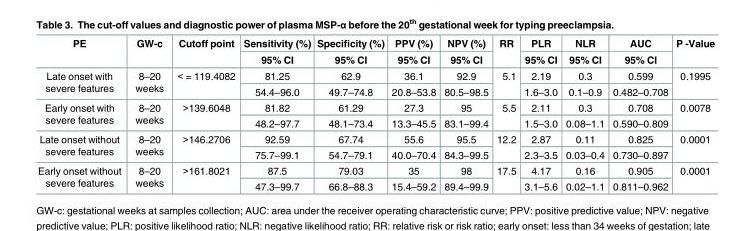table: (36, 36, 714, 191)
table column: (36, 36, 127, 191), (238, 36, 313, 191), (313, 36, 387, 191), (169, 36, 238, 191), (607, 36, 671, 191), (387, 36, 439, 191), (439, 36, 491, 191), (560, 36, 607, 191), (671, 36, 714, 191), (127, 36, 169, 191), (519, 36, 560, 191), (491, 36, 519, 191)
table column header: (36, 36, 714, 67)
table row: (36, 50, 714, 67), (36, 67, 714, 83), (36, 83, 714, 99), (36, 114, 714, 130), (36, 130, 714, 146), (36, 146, 714, 162), (36, 162, 714, 178), (36, 99, 714, 114), (36, 36, 714, 50), (36, 178, 714, 191)
table spanning cell: (36, 67, 127, 99), (36, 130, 127, 162), (36, 36, 127, 67), (36, 99, 127, 130), (36, 162, 127, 191), (238, 36, 313, 67), (313, 36, 387, 67), (169, 67, 238, 99), (169, 130, 238, 162), (169, 36, 238, 67), (169, 99, 238, 130), (169, 162, 238, 191), (607, 36, 671, 67), (387, 36, 439, 67), (439, 36, 491, 67), (560, 36, 607, 67), (671, 67, 714, 99), (671, 130, 714, 162), (127, 67, 169, 99), (127, 130, 169, 162), (671, 36, 714, 67), (671, 99, 714, 130), (127, 36, 169, 67), (127, 99, 169, 130), (519, 36, 560, 67), (671, 162, 714, 191), (127, 162, 169, 191), (491, 67, 519, 99), (491, 130, 519, 162), (491, 36, 519, 67), (491, 99, 519, 130), (491, 162, 519, 191)
